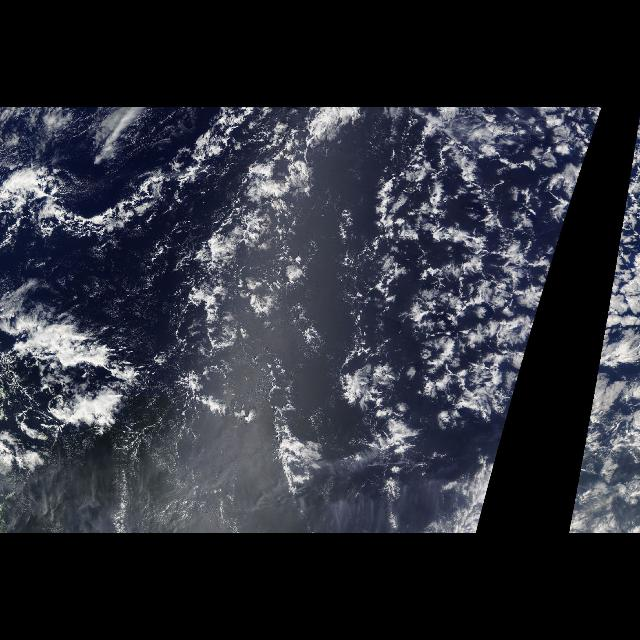Flower: (362, 111, 602, 522), (570, 115, 640, 523)
Gravel: (398, 139, 576, 421)
Sugar: (134, 404, 266, 530), (65, 243, 188, 344)
